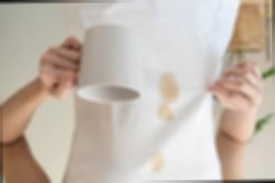coffee: (160, 71, 179, 104), (149, 150, 166, 174), (157, 103, 176, 122)
